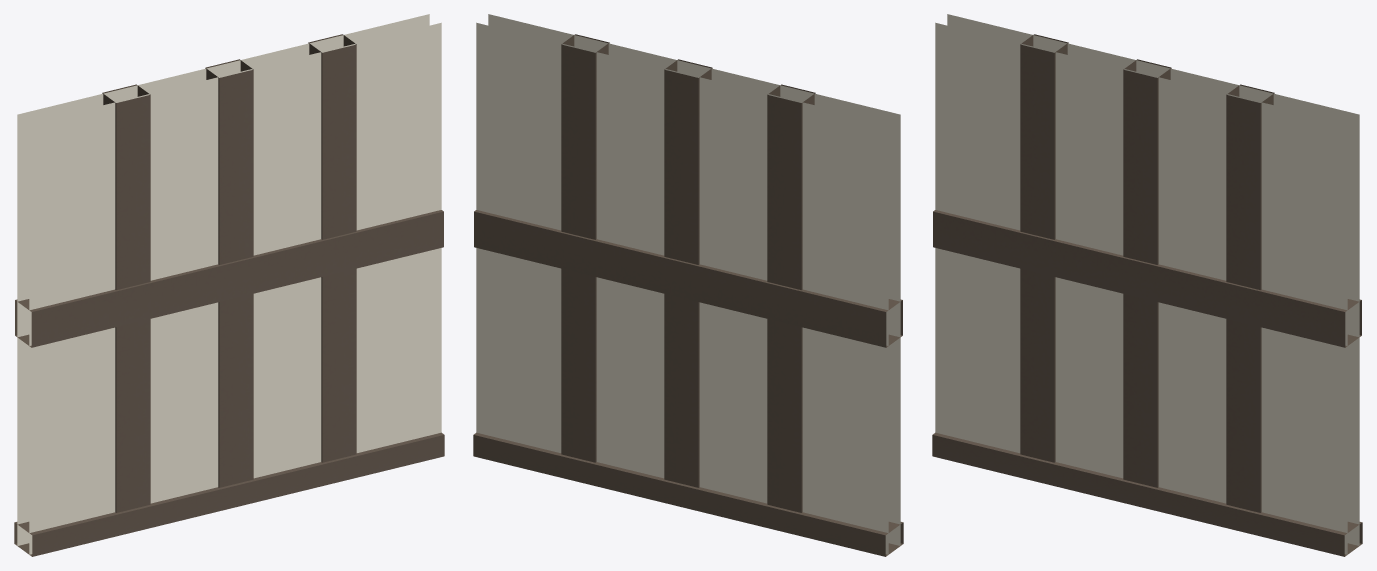
File: Wall_1A.fbx
The picture shows the model from 3 angles, left to right: view 1: azimuth 30°, elevation 25°; view 2: azimuth 150°, elevation 25°; view 3: azimuth 330°, elevation 25°; orthographic projection.
Visible parts, largest first — view 1: pCube759; view 2: pCube759; view 3: pCube759.
Part boxes in pixels (x1,y1,x2,y2): pCube759: [14, 14, 444, 556]; pCube759: [473, 14, 903, 556]; pCube759: [932, 14, 1362, 556].
Bounding box in the file's own units: 400 × 400 × 30.
